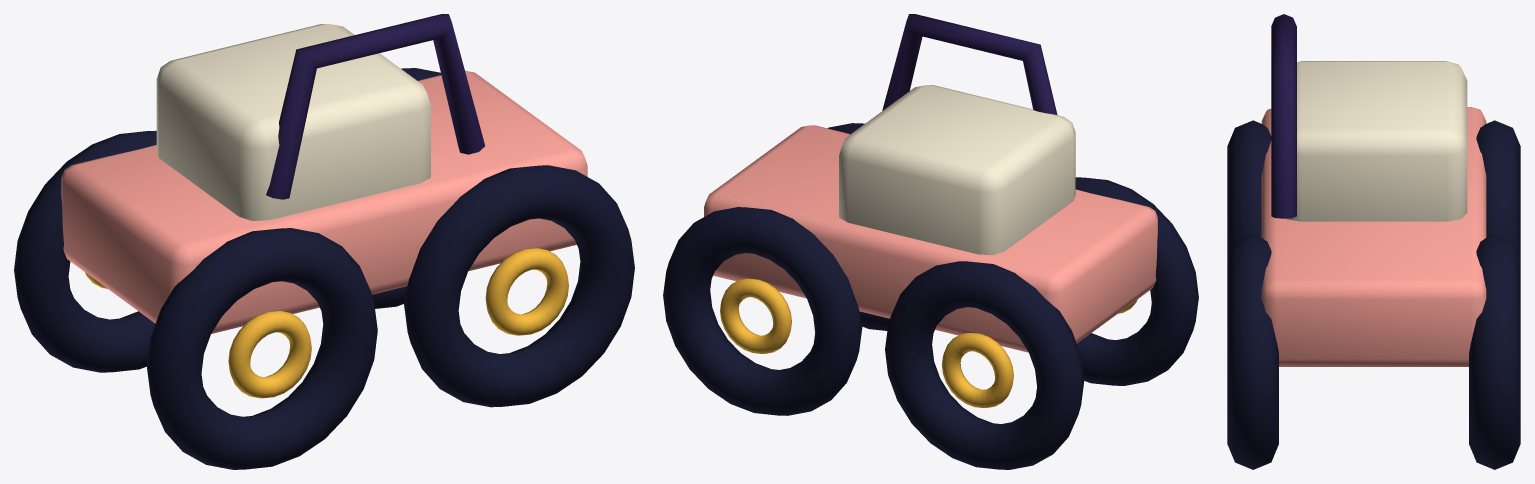
The model's file is r070_kart_monster_truck_source_monster_truck.glb.
3 views of the same model, side by side, from view 1: azimuth 30°, elevation 25°; view 2: azimuth 150°, elevation 25°; view 3: azimuth 270°, elevation 25° (orthographic). The views are drawn at different scales.
Parts seen in each view (by area): view 1: r070_kart_monster_truck_source_monster_truck.001; view 2: r070_kart_monster_truck_source_monster_truck.001; view 3: r070_kart_monster_truck_source_monster_truck.001.
Boxes of the visible parts, x1,y1,x2,y2 form: r070_kart_monster_truck_source_monster_truck.001: (14,14,634,469); r070_kart_monster_truck_source_monster_truck.001: (663,14,1198,469); r070_kart_monster_truck_source_monster_truck.001: (1227,14,1520,469).
Bounding box in the file's own units: 3.94 × 3.05 × 2.28.
